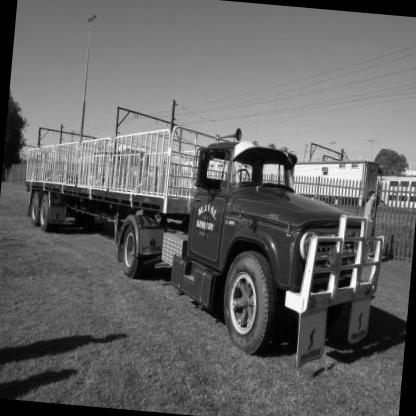truck: (5, 117, 399, 368)
